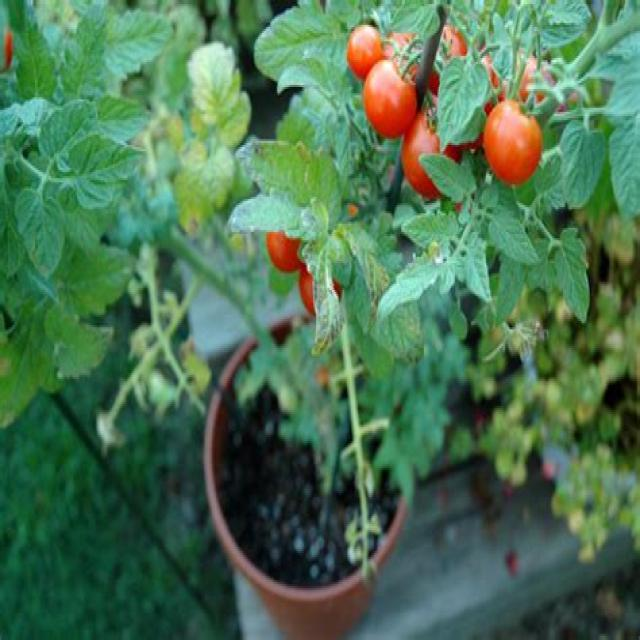Tomato: (482, 100, 545, 188), (365, 59, 417, 135)
